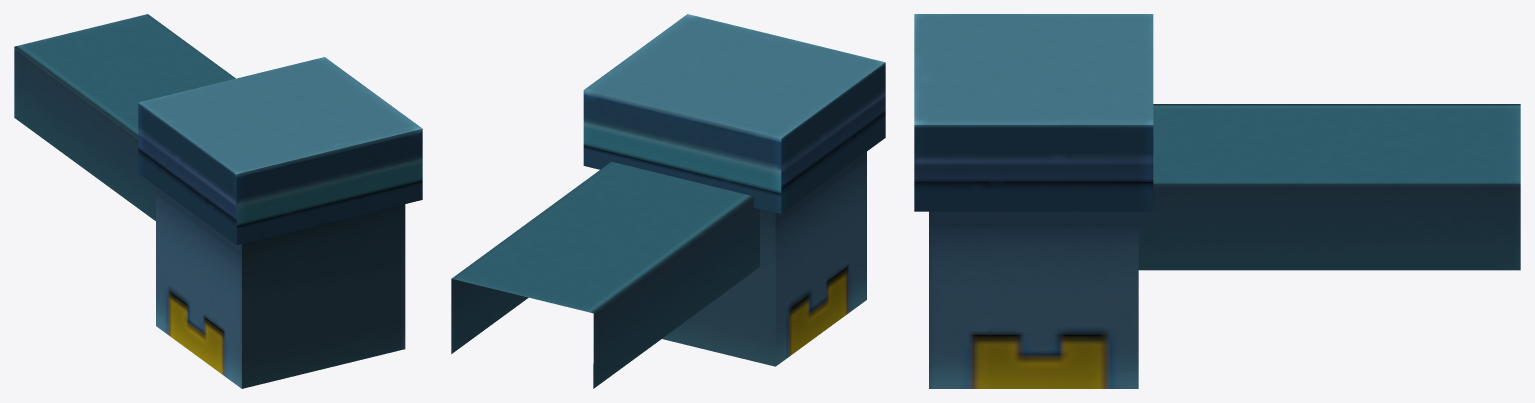
The model's file is LanGan_Ab.fbx.
3 renders of one model, left to right at view 1: azimuth 30°, elevation 25°; view 2: azimuth 150°, elevation 25°; view 3: azimuth 270°, elevation 25°, orthographic. The views are drawn at different scales.
Parts seen in each view (by area): view 1: LanGan_Ab; view 2: LanGan_Ab; view 3: LanGan_Ab.
Boxes of the visible parts, <box> form: LanGan_Ab: <box>14,14,422,388</box>; LanGan_Ab: <box>451,14,885,388</box>; LanGan_Ab: <box>914,14,1520,388</box>.
Bounding box in the file's own units: 0.1476 × 0.1681 × 0.3412.
1 material, 1 textured.
